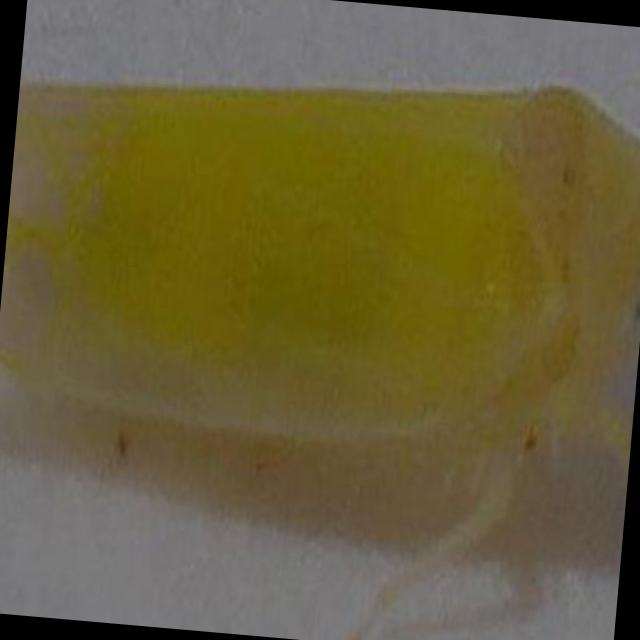green-leafhopper: (0, 82, 640, 640)
